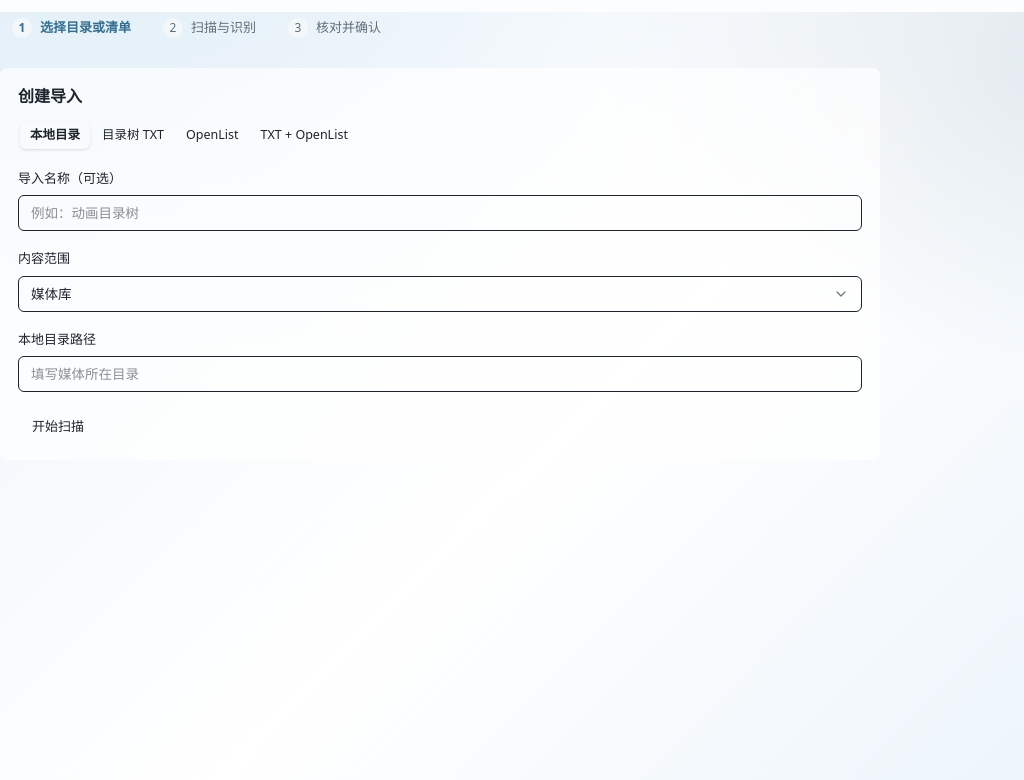
TXT 路径多解的映射选择（F8） › 取消映射选择后清空候选、保留输入且不再发请求
Click the radio button labelled "目录树 TXT" at {"x": 133, "y": 135}, box [92,122,174,149]
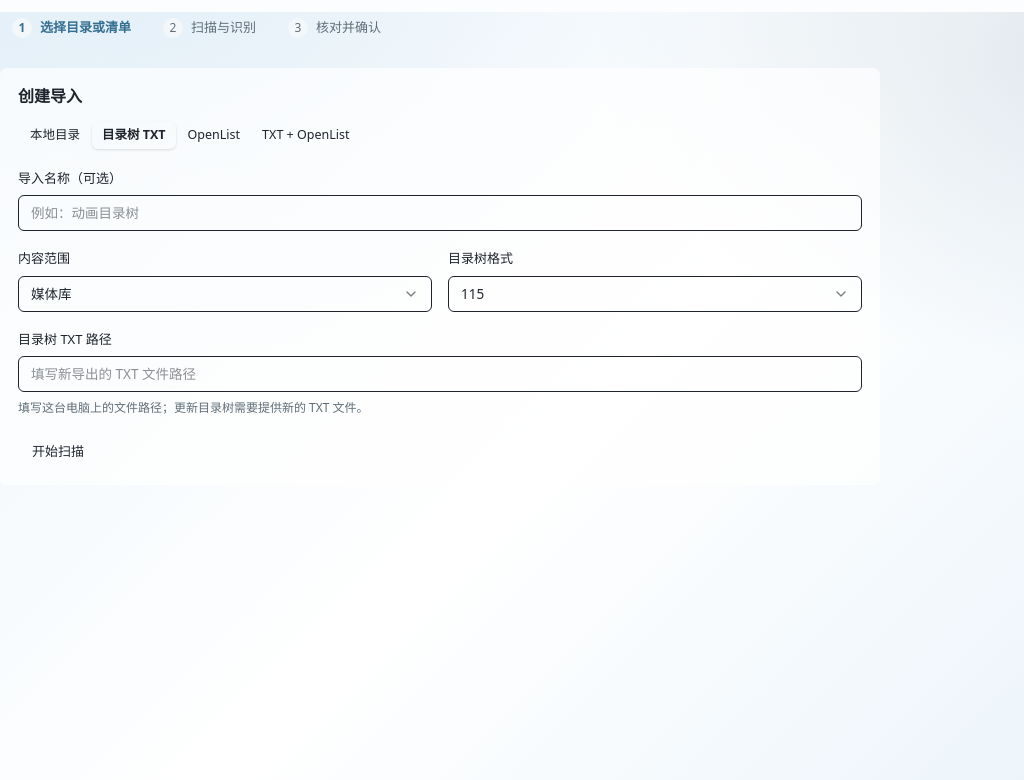
Type "D:\\Trees\\115-anime.txt" into the field labelled "目录树 TXT 路径" at {"x": 440, "y": 374}, box [18,356,862,392]
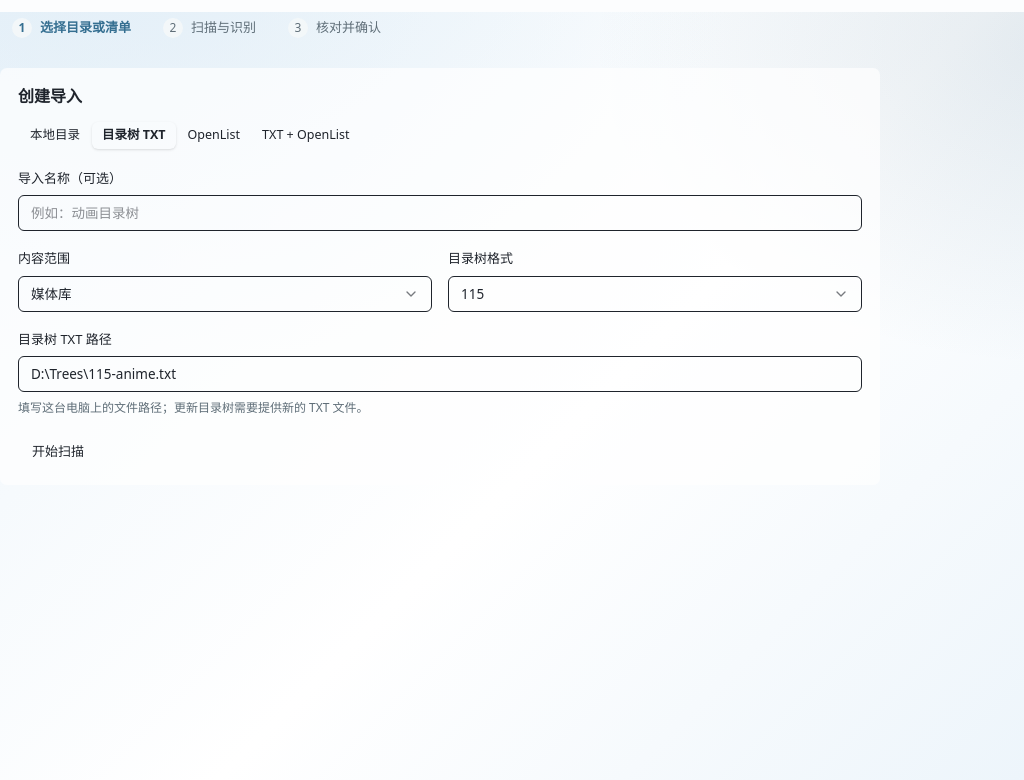
Click the button "开始扫描" at {"x": 58, "y": 451}, box [18,433,98,469]
(page scrolled)
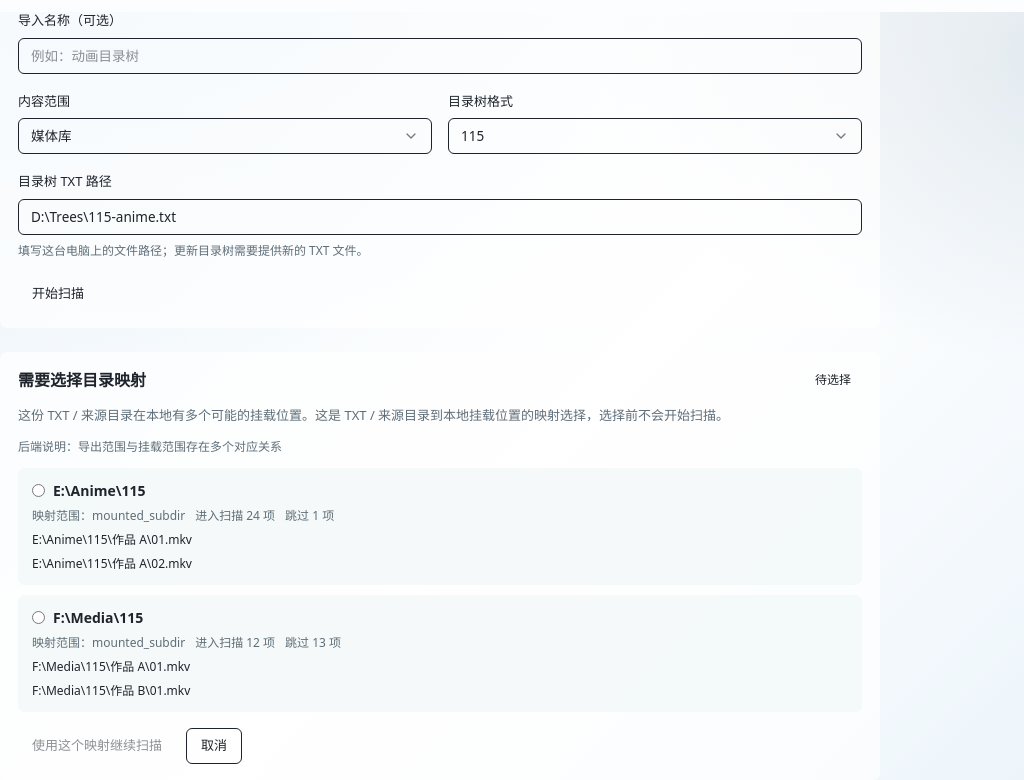
Expected: the element named "目录映射选择" is shown, [0,352,880,779]
Click the button "取消" at {"x": 214, "y": 746}, box [186,728,242,764]
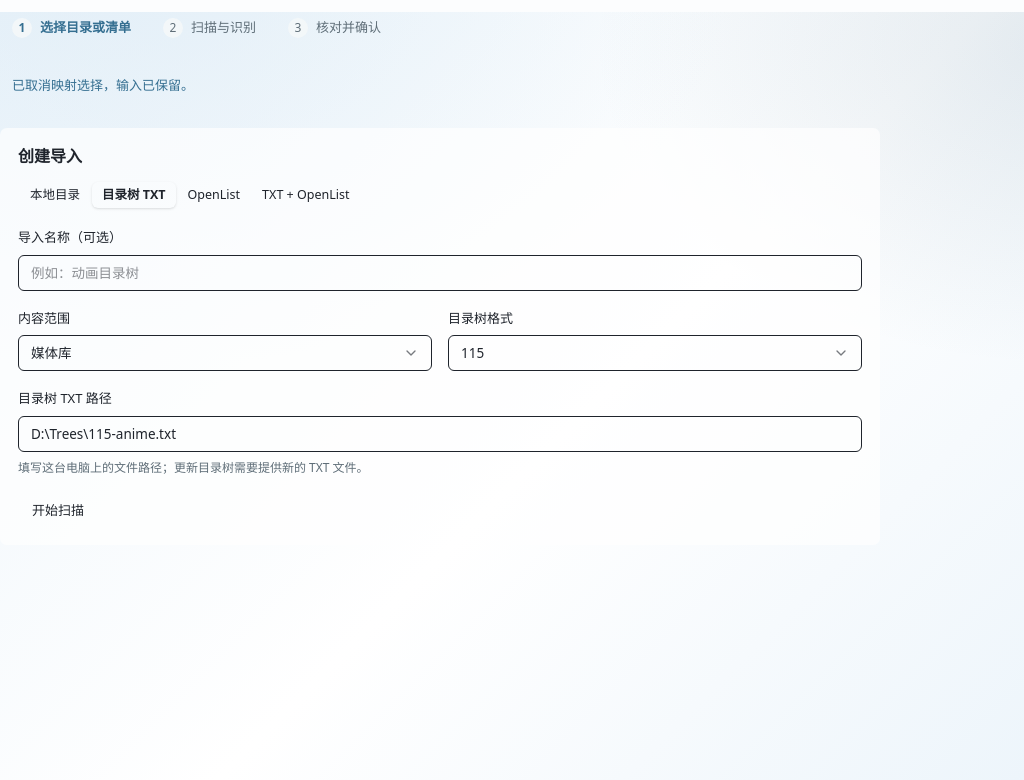
Expected: the text "已取消映射选择，输入已保留。" is shown, [12,76,194,94]
Expected: the element "目录映射选择" is gone
